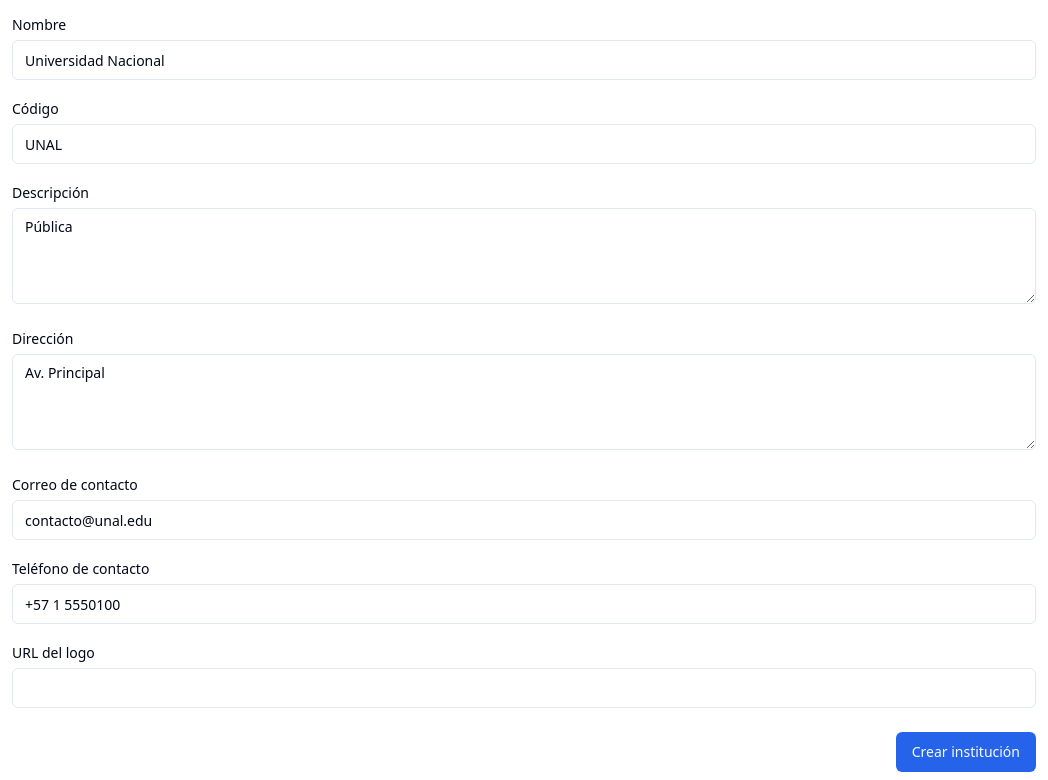
EntityForm — validation › shows zod Spanish messages when required fields are empty
Clear the field labelled "Nombre" at (524, 60), box [12,40,1036,80]
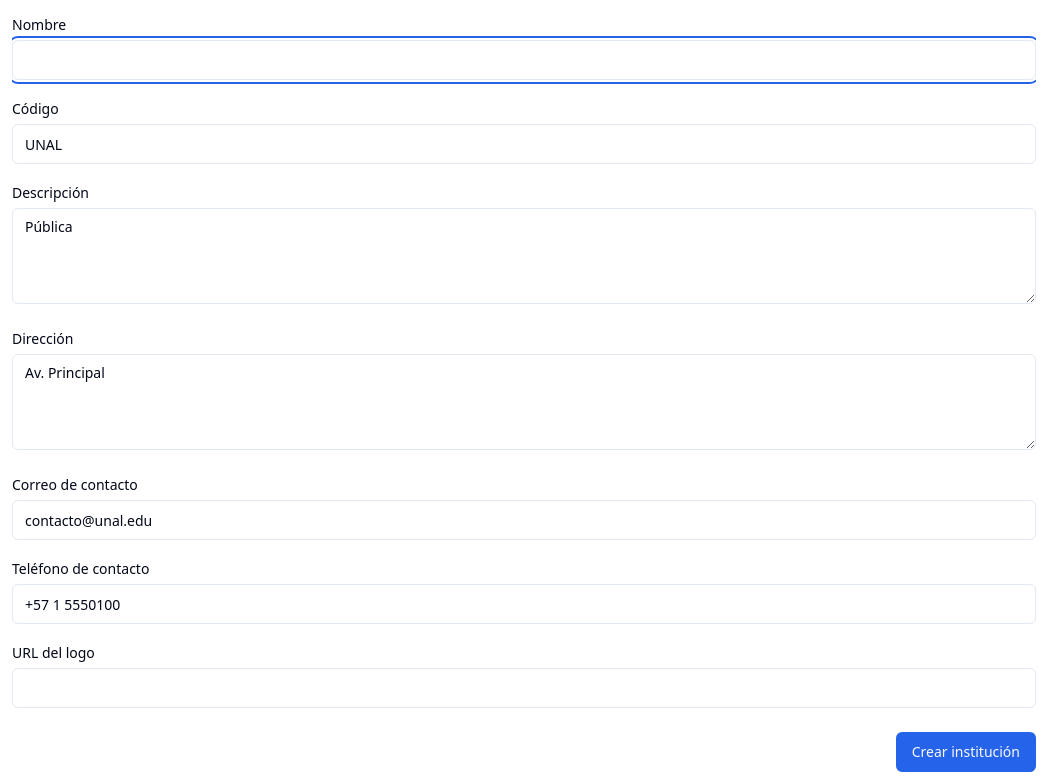
Clear the field labelled "Código" at (524, 144), box [12,124,1036,164]
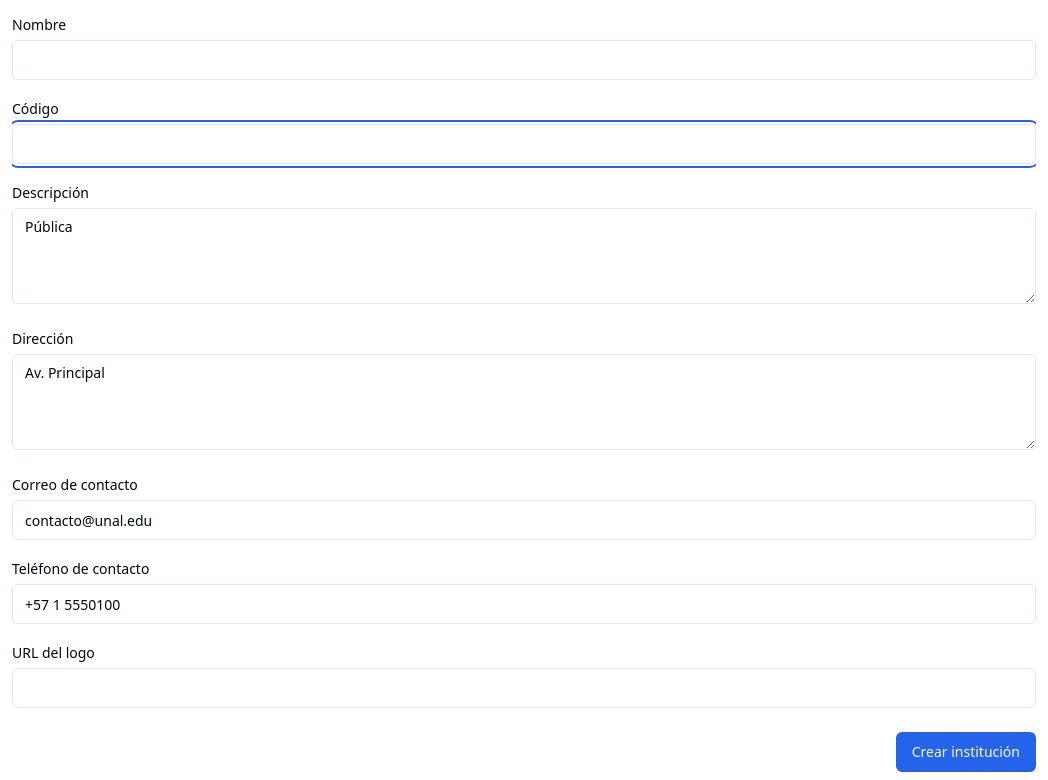
Click the button "Crear institución" at (966, 752), box [896,732,1036,772]
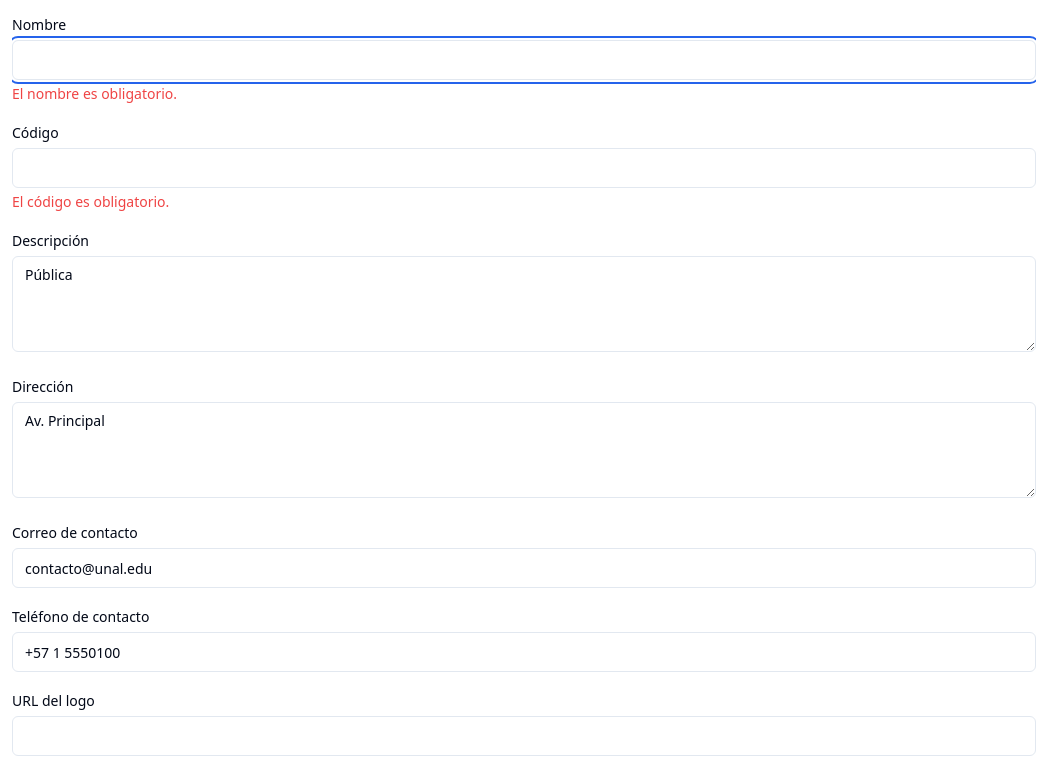
Result: the text "El nombre es obligatorio." is shown at [12,84,177,103]
Result: the text "El código es obligatorio." is shown at [12,192,169,211]
